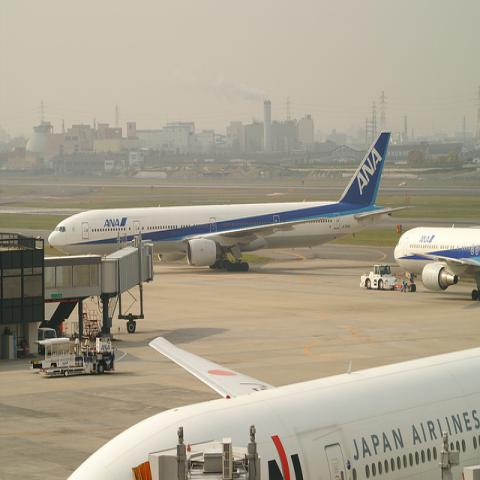truck: (29, 335, 117, 376), (359, 263, 399, 290), (38, 327, 56, 340)
